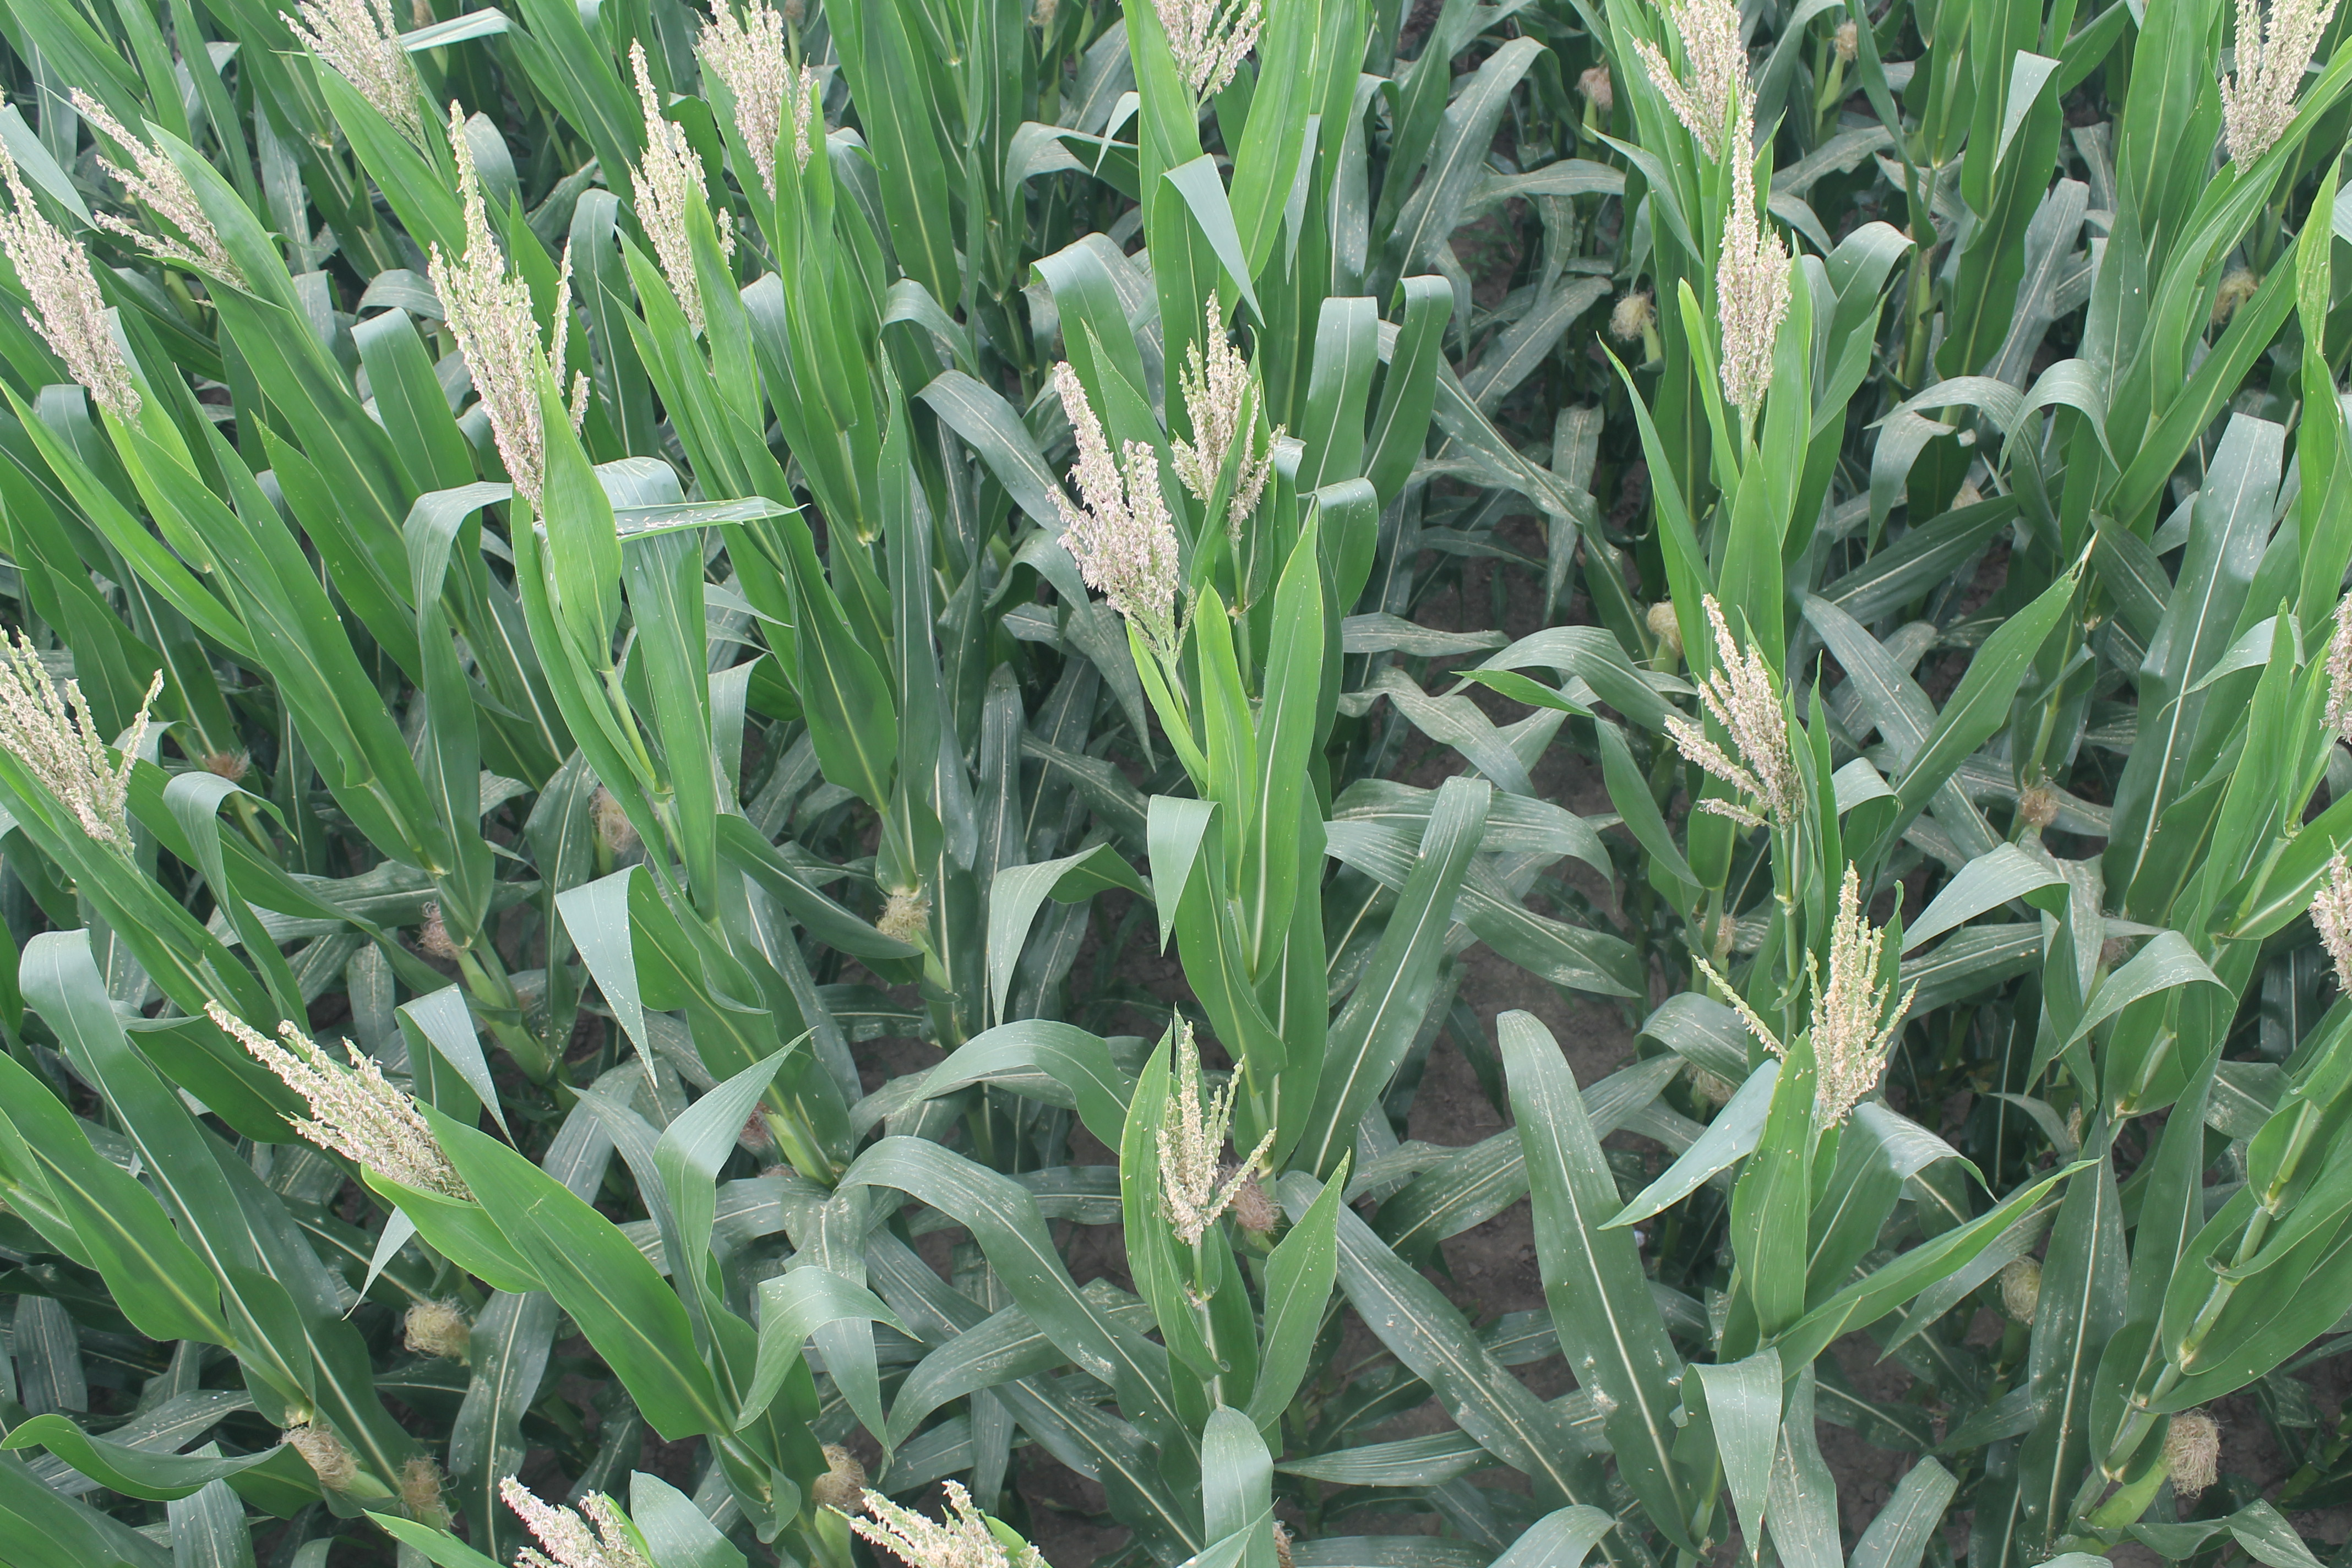Maize: (194, 999, 465, 1225), (429, 105, 581, 493), (1685, 868, 1918, 1118), (1010, 362, 1176, 665), (0, 605, 194, 863), (1652, 590, 1827, 836), (1148, 1015, 1307, 1241), (1696, 161, 1799, 415), (707, 0, 842, 189), (115, 89, 247, 280), (0, 171, 107, 406), (2212, 0, 2352, 177), (1183, 311, 1304, 514), (607, 56, 700, 311), (1629, 0, 1776, 152), (488, 1463, 688, 1568), (835, 1459, 1017, 1568), (297, 0, 422, 124), (1148, 0, 1270, 117), (2284, 840, 2352, 999), (2308, 581, 2352, 772)
